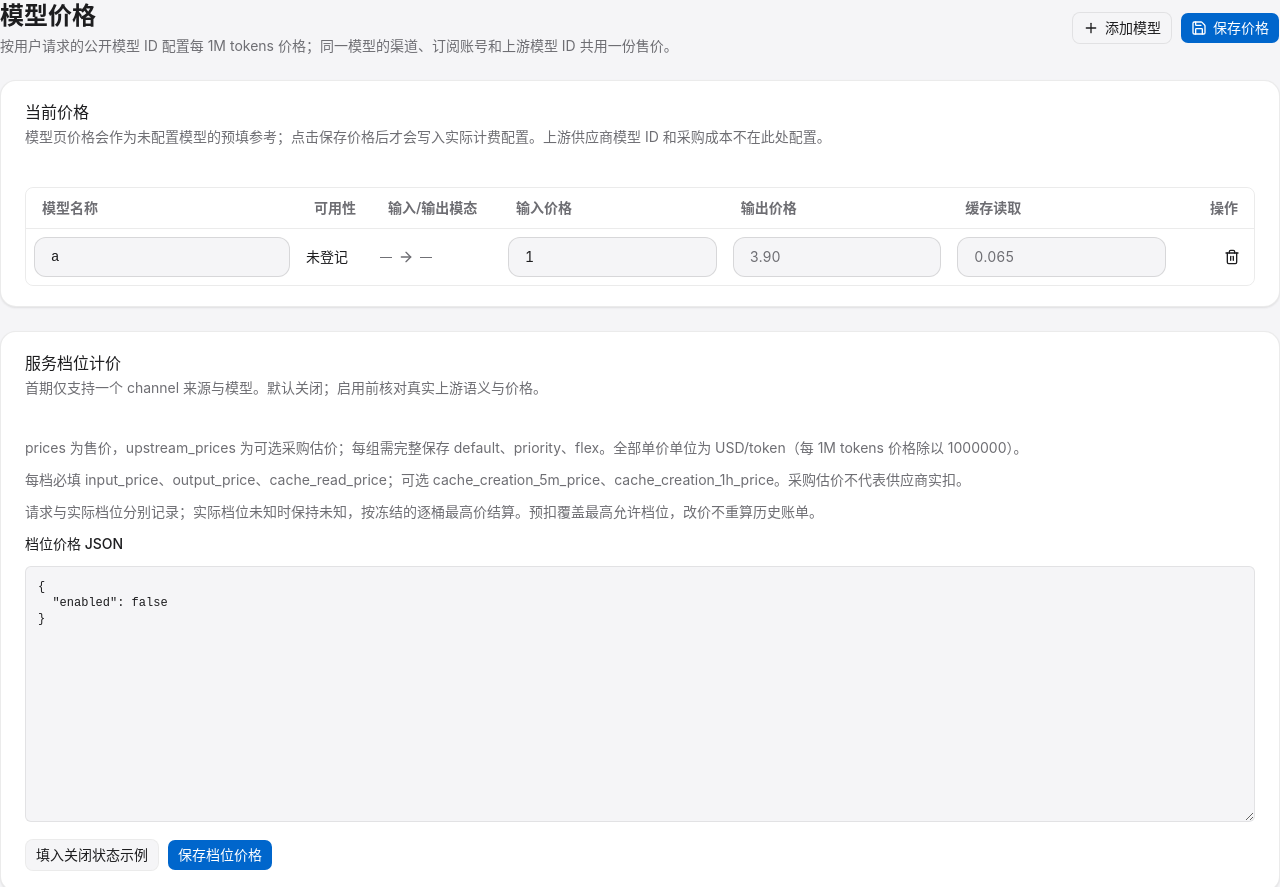
Test case: AdminPricingPage › keeps the draft versions when a background read sees another writer
Expected: the field showing "a" is shown, [34, 236, 290, 276]
Replace the text in the 1st number field with "3". click: [612, 256]
box: [508, 236, 717, 276]
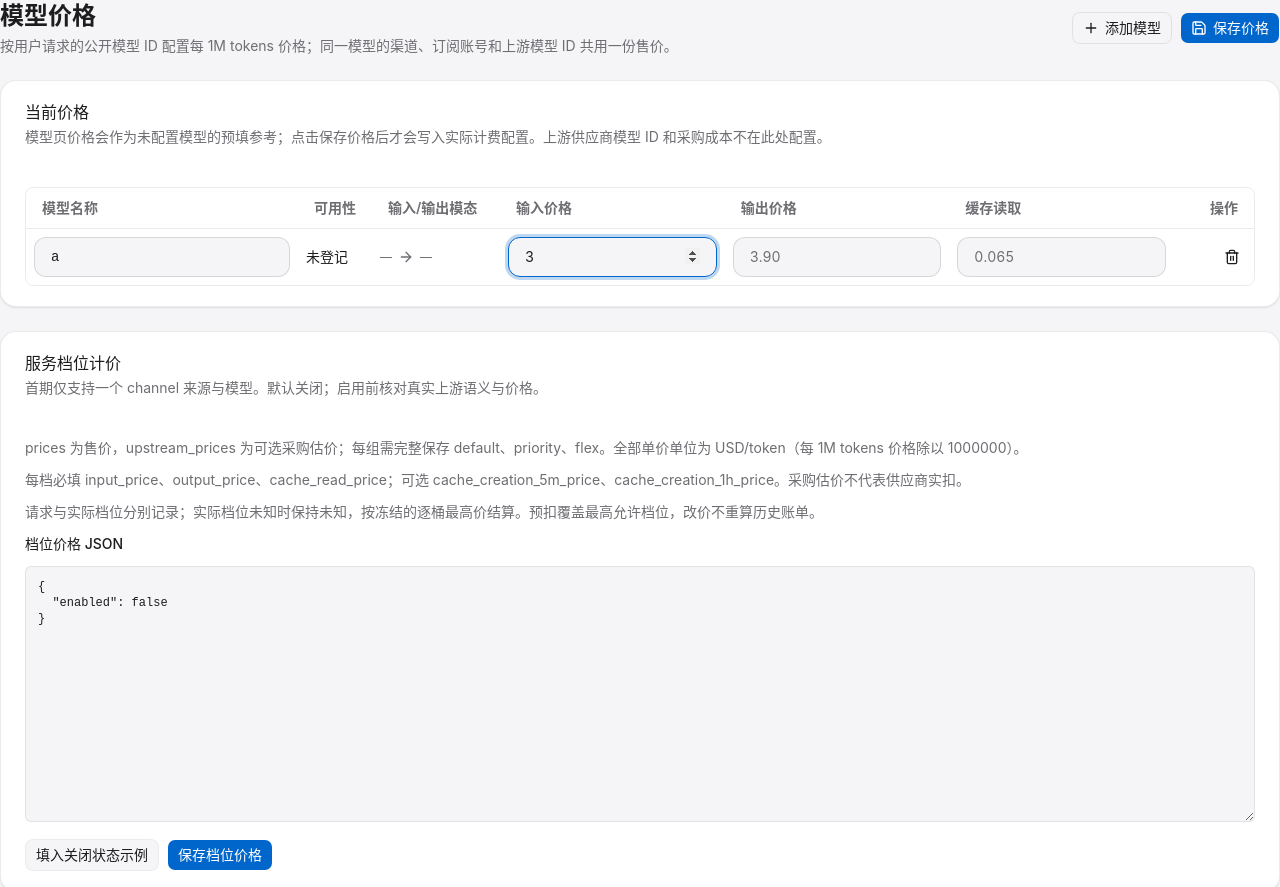
Click the button "保存价格". click: [1230, 28]
box: [1180, 12, 1279, 44]
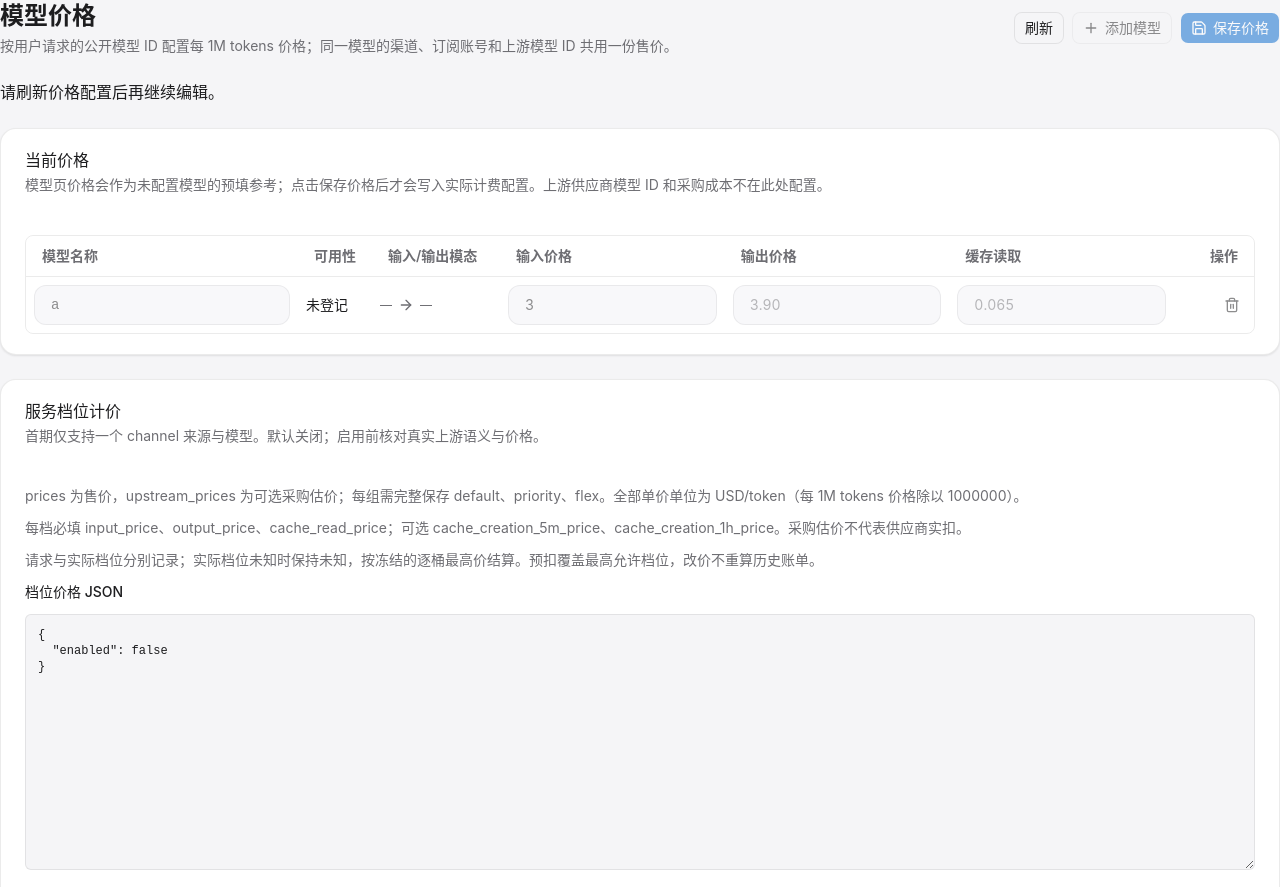
Expected: the button "保存价格" is disabled, [1180, 12, 1279, 44]
